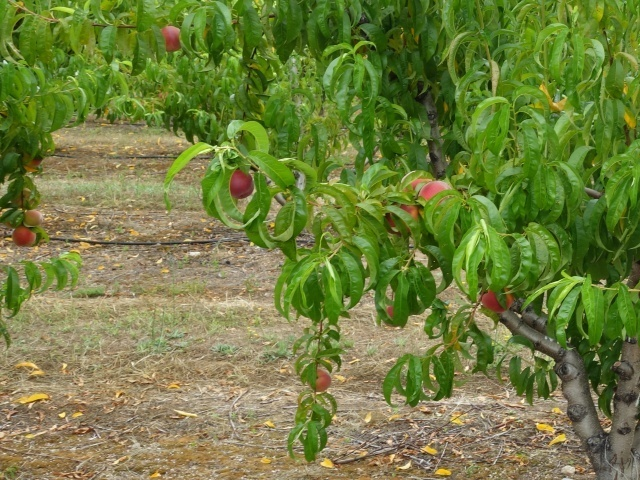peach: (381, 199, 425, 234), (223, 161, 257, 203), (395, 163, 437, 197), (480, 282, 519, 317), (415, 178, 457, 209), (157, 23, 188, 56), (9, 223, 40, 253), (305, 364, 335, 395), (18, 147, 47, 175), (8, 185, 37, 210), (18, 208, 46, 231)
